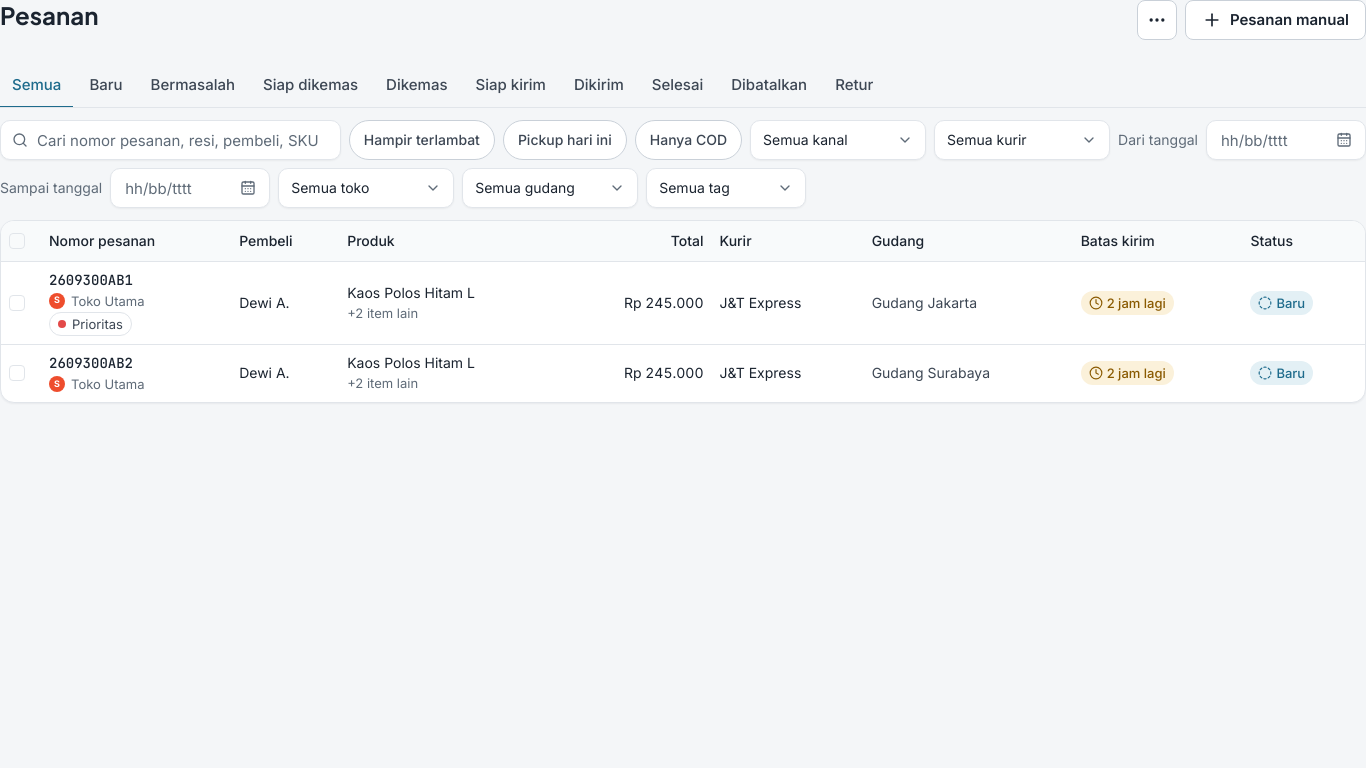
Test: OrdersView: stores, warehouses, tags, and reading orders again › tags the selected orders from the bulk bar
This screenshot has width=1366, height=768.
Click the checkbox named "Pilih pesanan 2609300AB2". click: (17,373)
box: [9,365,25,381]
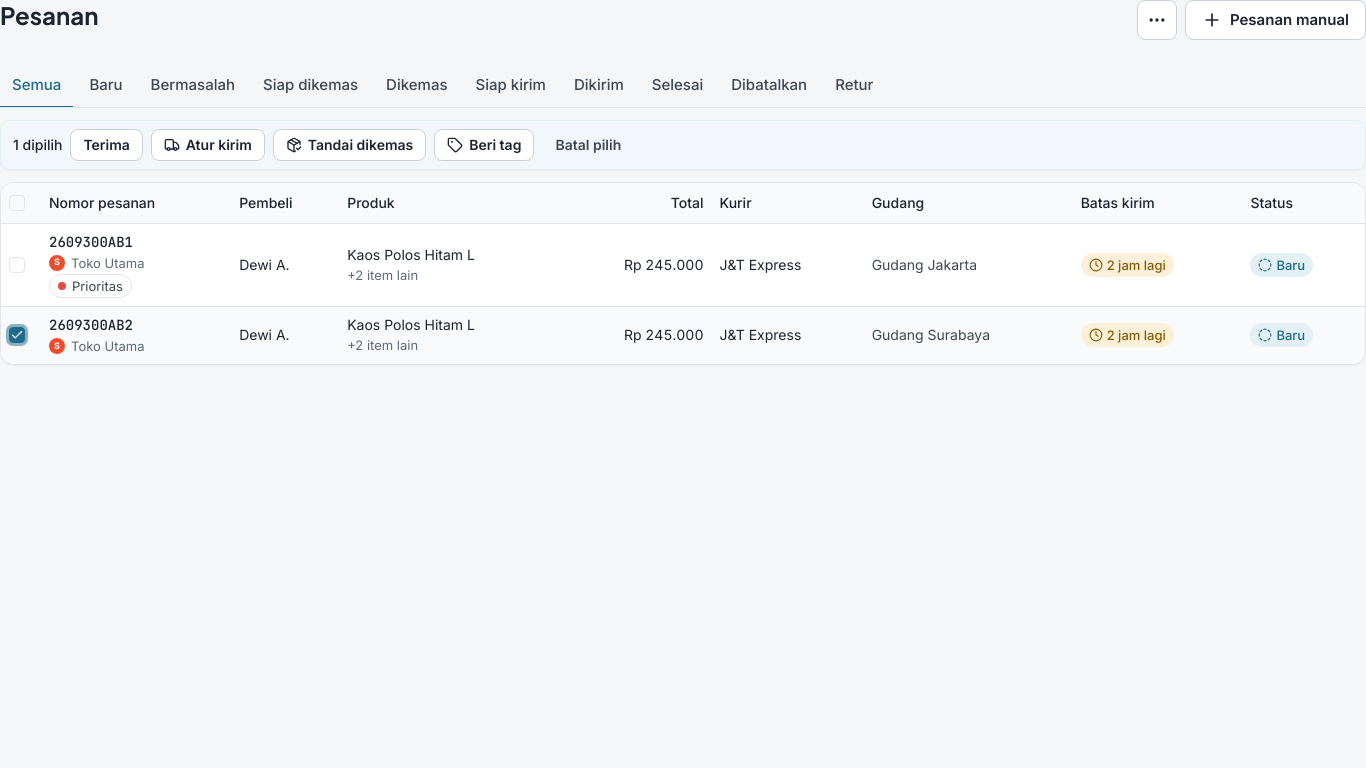
Click the button "Beri tag". click: (484,145)
box: [434,129,534,161]
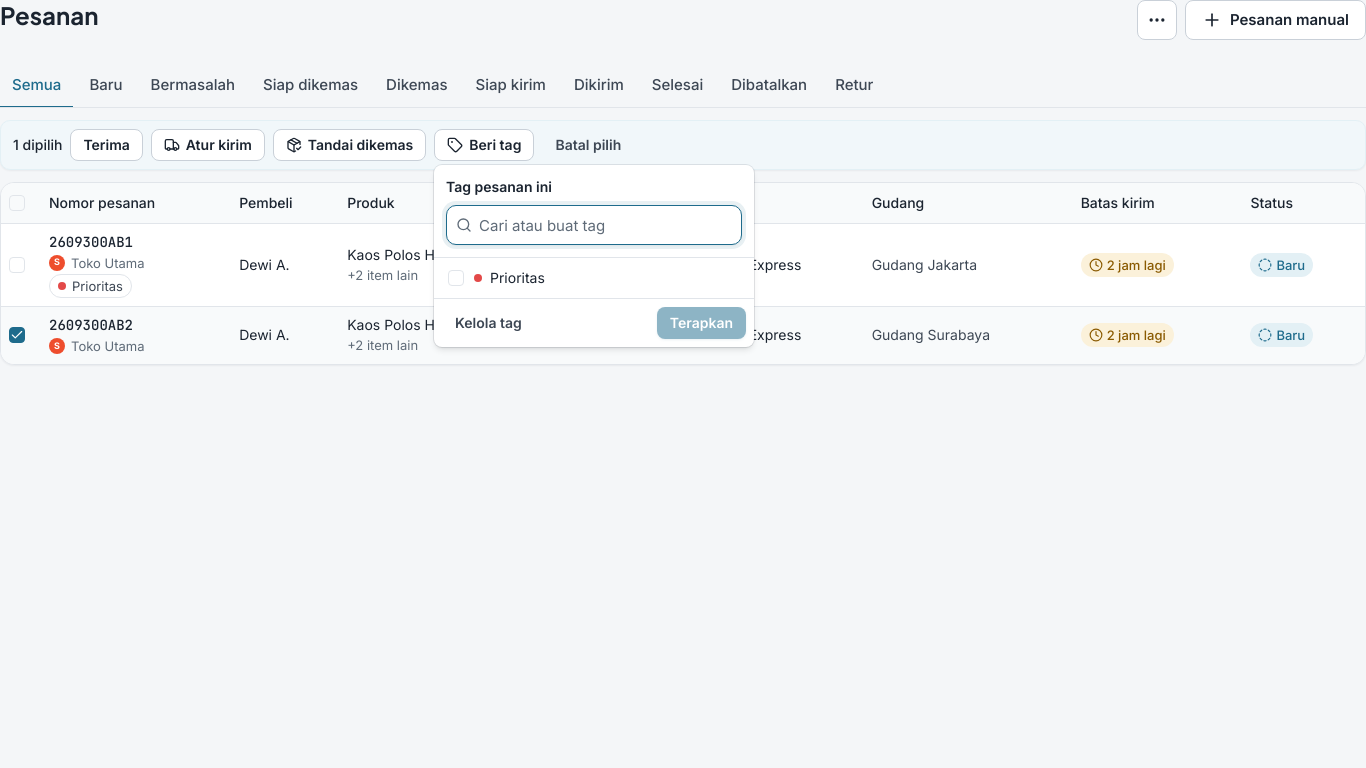
Click the checkbox named "Prioritas". click: (456,278)
box: [448,270,464,286]
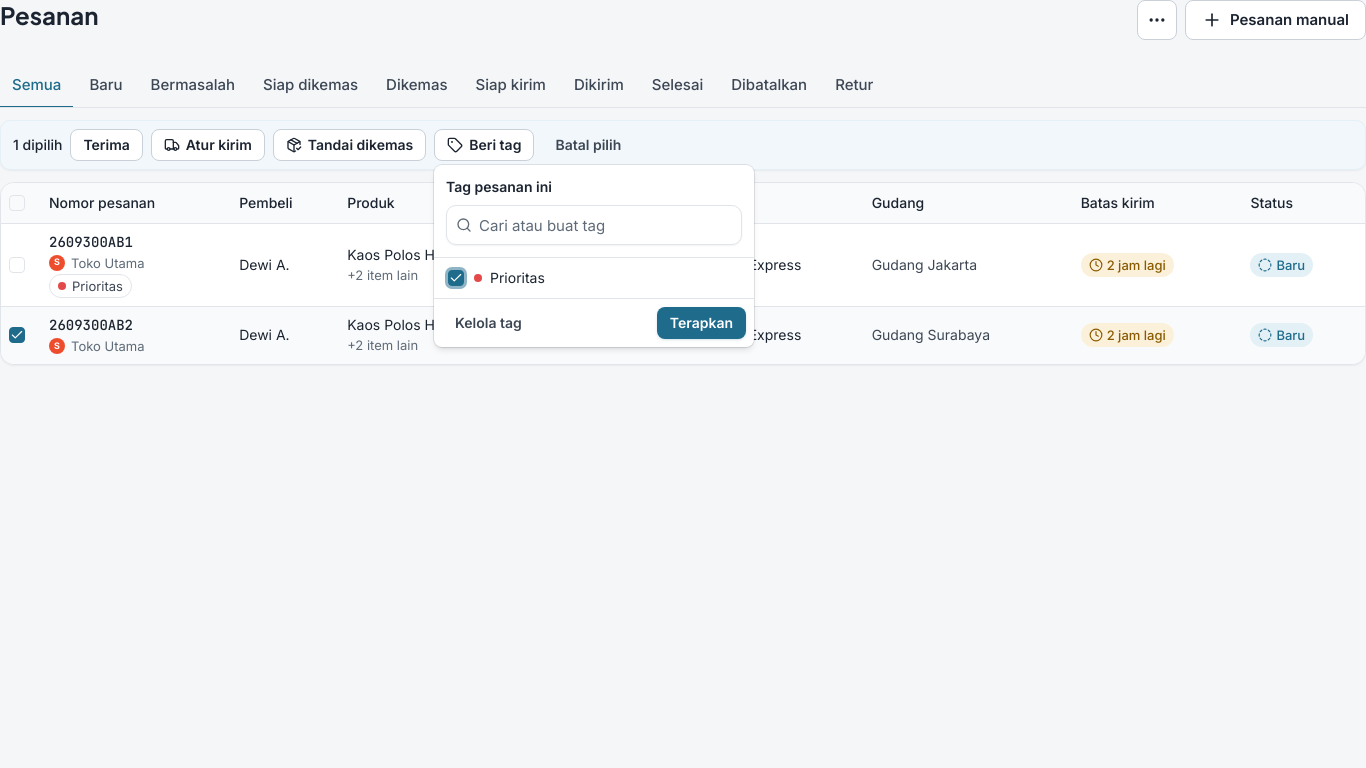
Click the button "Terapkan". click: (701,323)
box: [657,307,746,339]
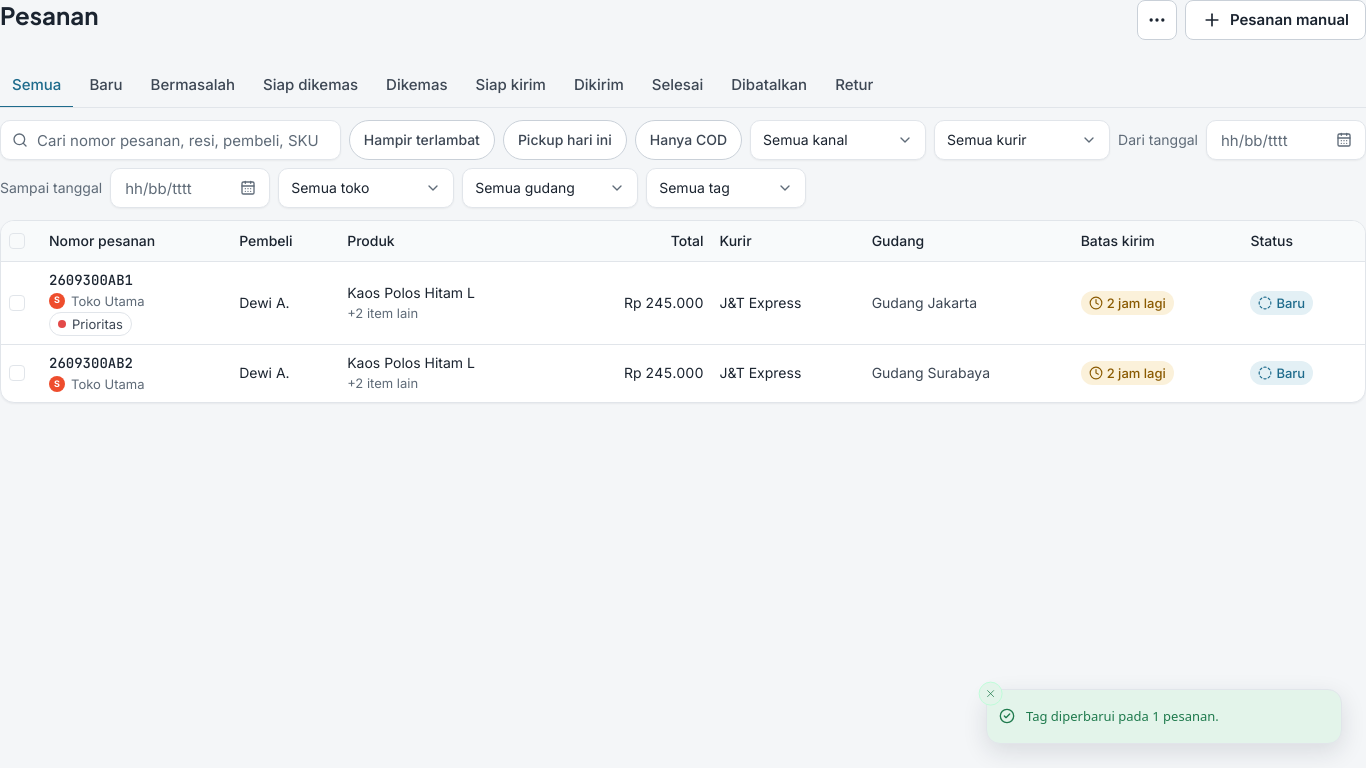
Now the text "1 dipilih" is gone
Now the dropdown labelled "tag" is shown, box [646,168,806,208]
